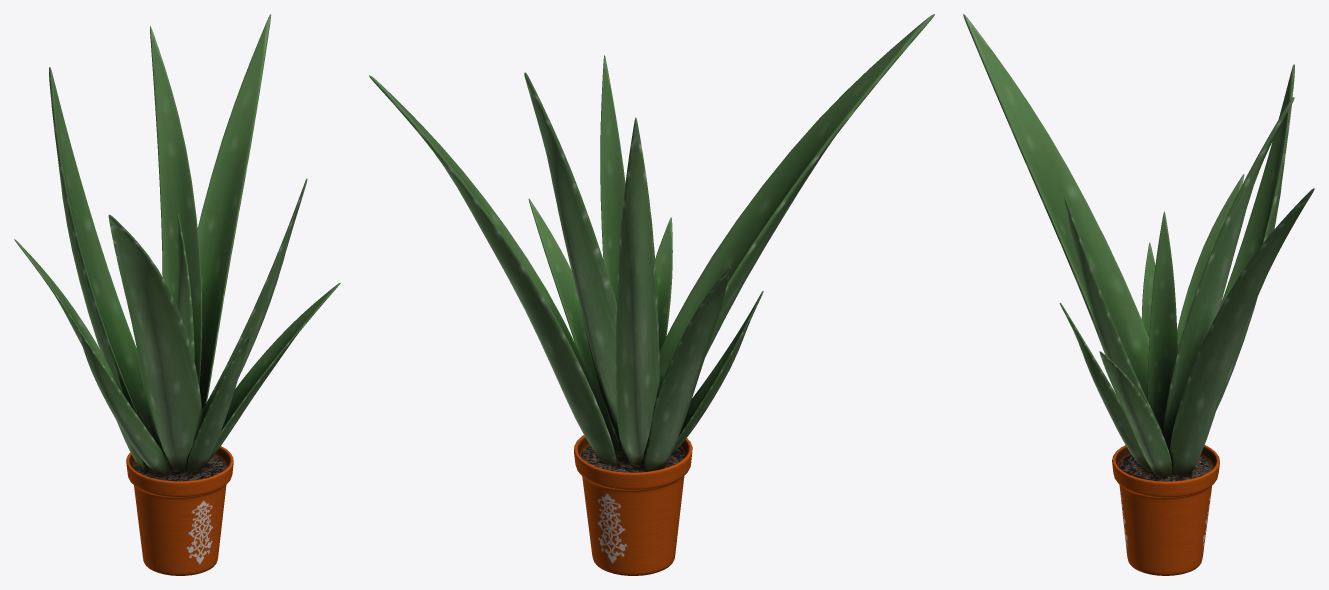
Rendered from Aloe1.obj.
3 renders of one model, left to right at view 1: azimuth 30°, elevation 25°; view 2: azimuth 150°, elevation 25°; view 3: azimuth 270°, elevation 25°, orthographic. The views are drawn at different scales.
Visible parts, largest first — view 1: 10432_Aloe_Plant_v1; view 2: 10432_Aloe_Plant_v1; view 3: 10432_Aloe_Plant_v1.
Part boxes in pixels (<box>): 10432_Aloe_Plant_v1: <box>14,14,340,575</box>; 10432_Aloe_Plant_v1: <box>369,14,934,575</box>; 10432_Aloe_Plant_v1: <box>963,14,1314,575</box>.
Bounding box in the file's own units: 21.89 × 29.82 × 19.74.
1 material, 1 textured.
